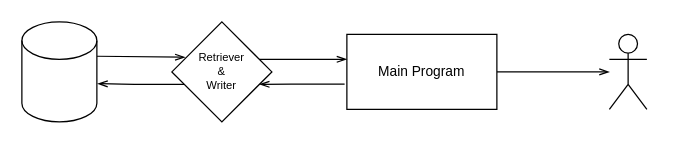
Some shapes in this 678 by 156 pixel diagram are drawn without their labels. The centre of each missing label's shape, as x and y in pixels:
"Database" belongs at point 59,71.
"Frontend" belongs at point 627,71.
